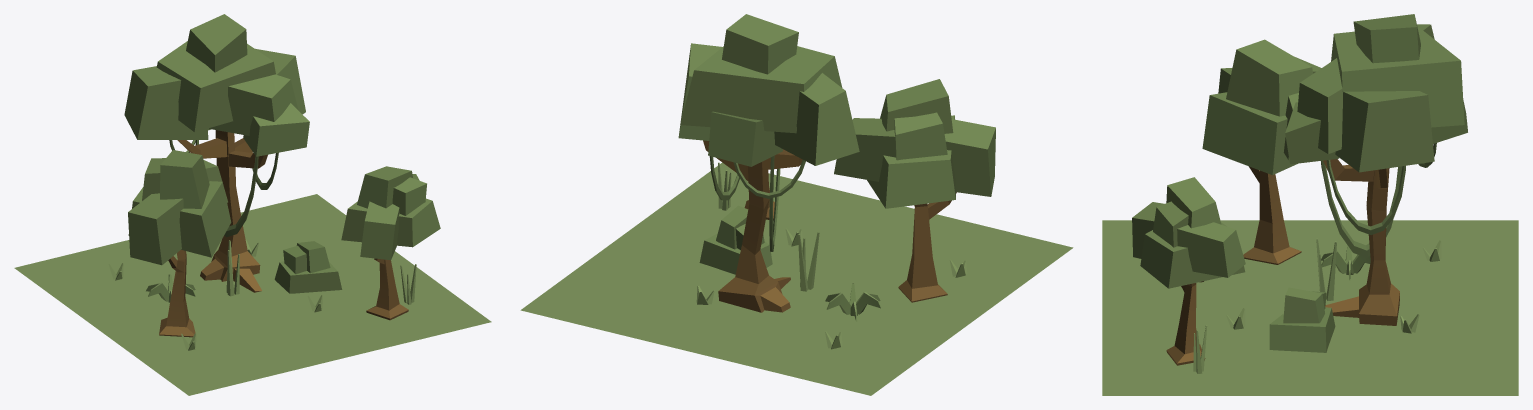
The model's file is SA_Env_ForestTile_04.gltf.
The picture shows the model from 3 angles, left to right: view 1: azimuth 30°, elevation 25°; view 2: azimuth 150°, elevation 25°; view 3: azimuth 270°, elevation 25°; orthographic projection. The views are drawn at different scales.
Parts seen in each view (by area): view 1: SA_Env_ForestTile_04; view 2: SA_Env_ForestTile_04; view 3: SA_Env_ForestTile_04.
Boxes of the visible parts, x1,y1,x2,y2 form: SA_Env_ForestTile_04: (14,14,491,395); SA_Env_ForestTile_04: (520,14,1073,395); SA_Env_ForestTile_04: (1102,14,1518,395).
Size of the model in its own units: 15 by 11.8 by 15.
Materials: 1 (1 with a texture image).
